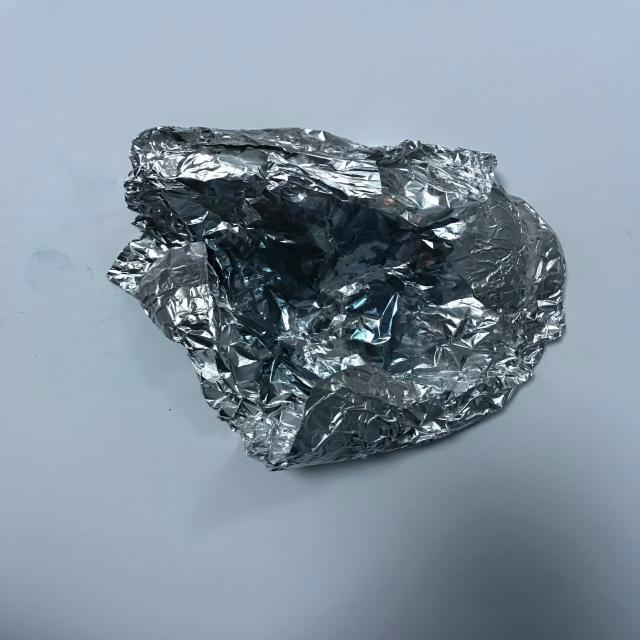metal: (102, 113, 585, 491)
